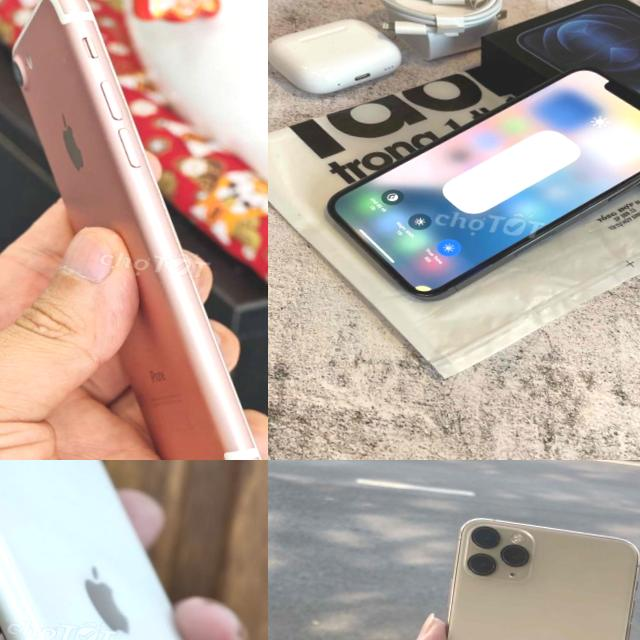gen_11: (0, 460, 268, 640), (404, 496, 640, 640)
gen_12_13: (307, 31, 640, 341)
gen_7_8: (0, 0, 268, 460)
